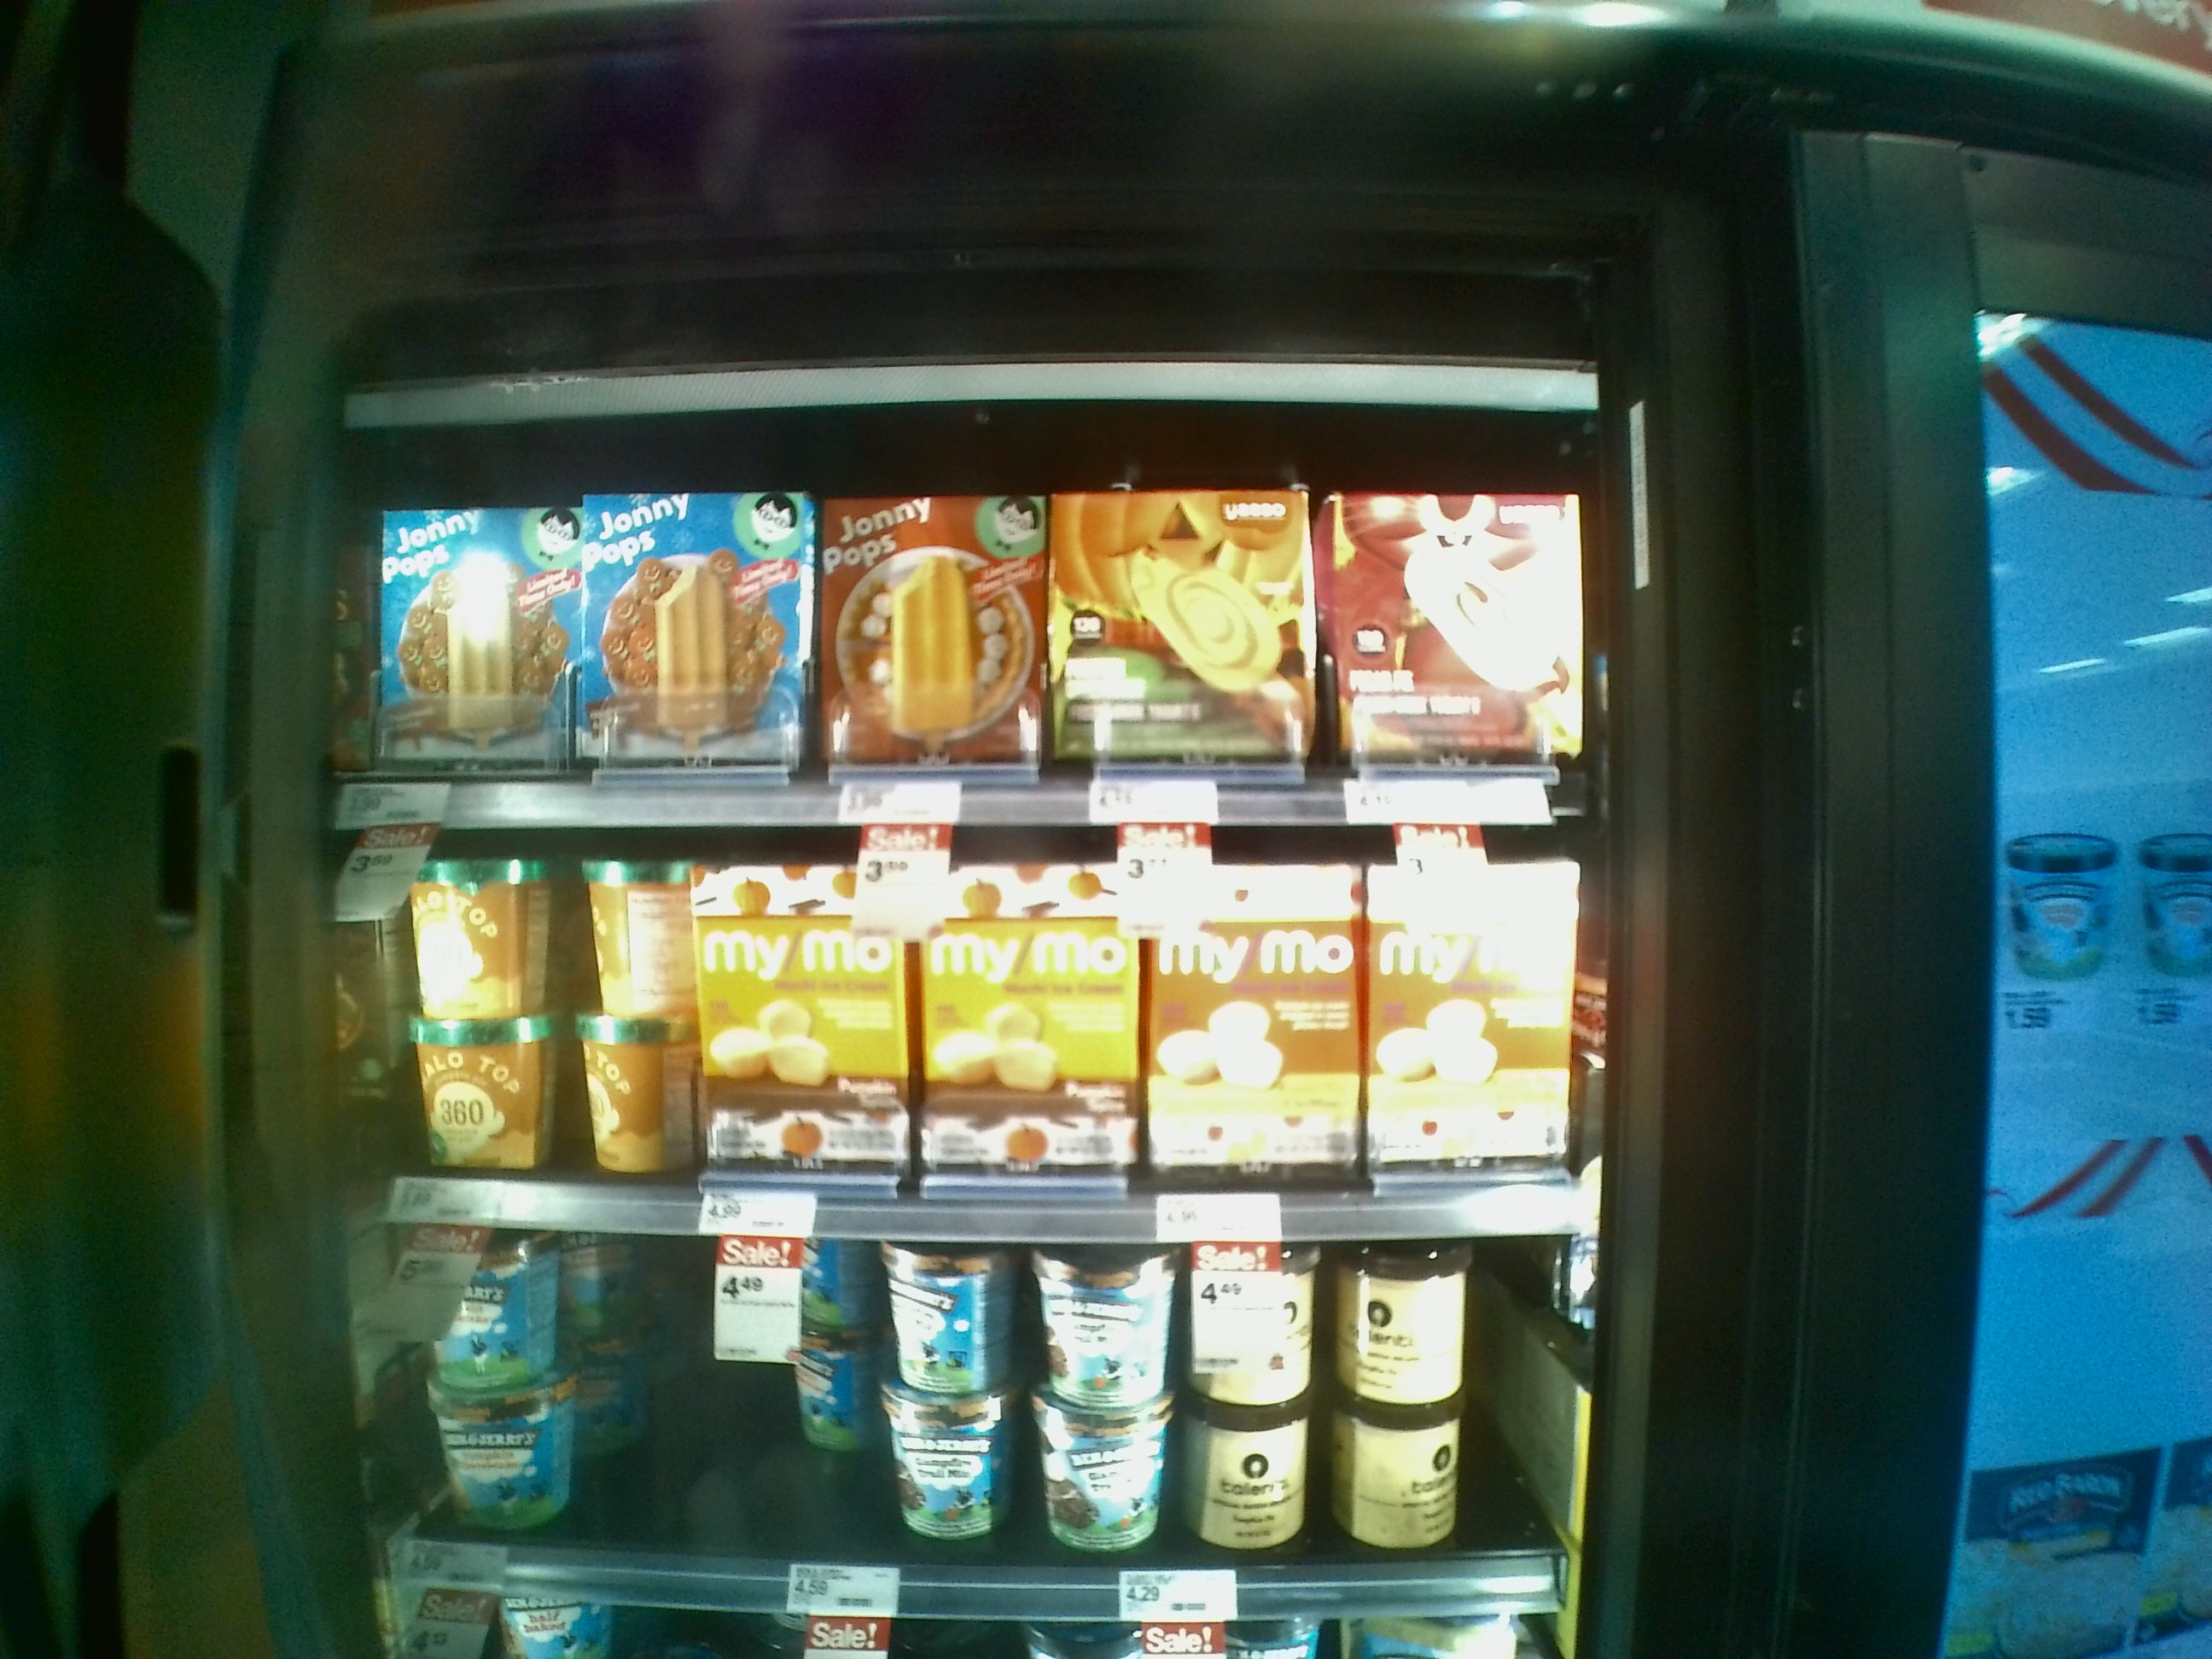shelf: (317, 786, 1602, 1230), (338, 1182, 1583, 1619), (340, 437, 1594, 807)
